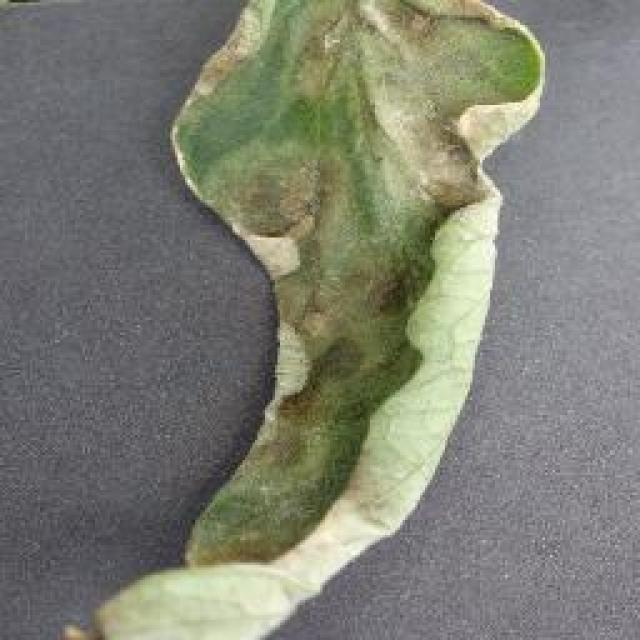Tomato___Late_blight: (53, 0, 550, 638)
